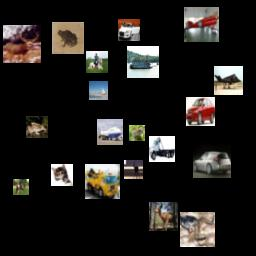airplane: (184, 7, 219, 42), (214, 66, 243, 95), (97, 119, 123, 145)
automobile: (193, 140, 231, 178), (186, 97, 215, 126), (118, 19, 140, 41)
cat: (51, 164, 73, 186)
deer: (3, 25, 41, 63), (149, 202, 178, 231), (124, 160, 143, 179)
frog: (180, 212, 215, 247), (52, 22, 84, 54), (26, 116, 48, 138), (129, 125, 145, 141)
ship: (127, 46, 159, 78), (89, 81, 108, 100)
truck: (85, 164, 120, 199), (149, 136, 175, 162)
